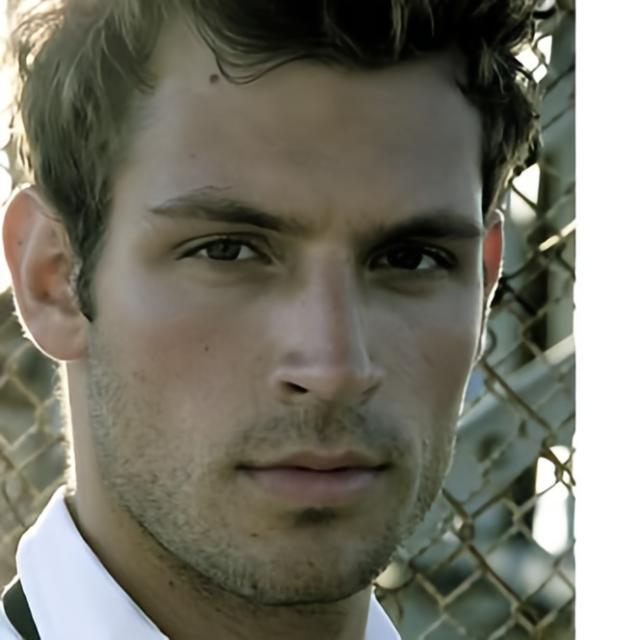happy: (90, 52, 484, 615)
